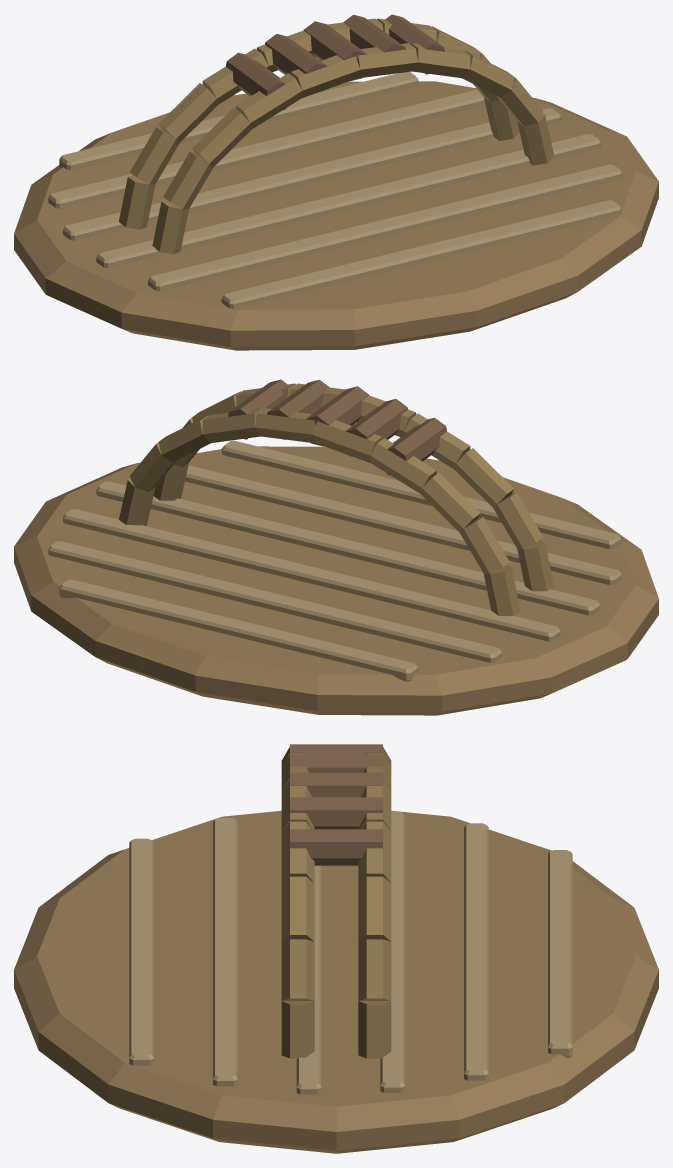
Rendered from bottle_hamper_lid.glb.
3 views of the same model, one above another, from view 1: azimuth 30°, elevation 25°; view 2: azimuth 150°, elevation 25°; view 3: azimuth 270°, elevation 25° (orthographic). The views are drawn at different scales.
Parts seen in each view (by area): view 1: bottle_hamper_lid; view 2: bottle_hamper_lid; view 3: bottle_hamper_lid.
Part boxes in pixels (box(x1,y1,x2,y2)): bottle_hamper_lid: box(14, 14, 658, 350); bottle_hamper_lid: box(14, 379, 658, 715); bottle_hamper_lid: box(14, 744, 658, 1153).
Size of the model in its own units: 0.56 by 0.182 by 0.47.
